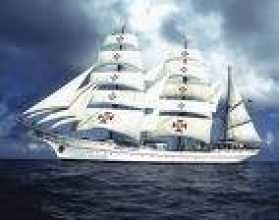fanchuan: (20, 25, 258, 169)
